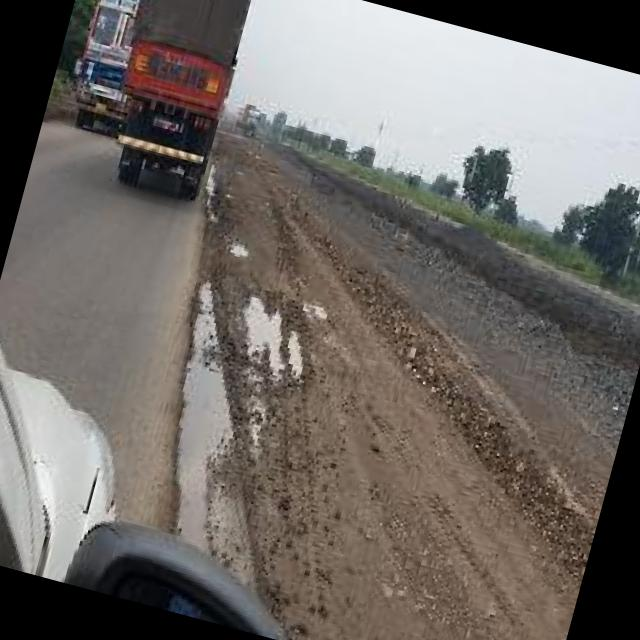stagnation: (169, 289, 236, 519), (255, 295, 305, 378)
